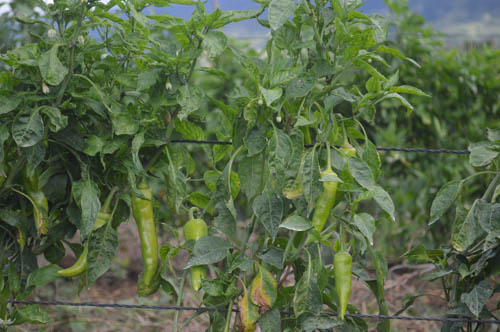ChiliPepper: (128, 192, 158, 287), (309, 173, 337, 239), (184, 220, 211, 285), (333, 253, 354, 321), (54, 244, 87, 286), (28, 167, 48, 218)
